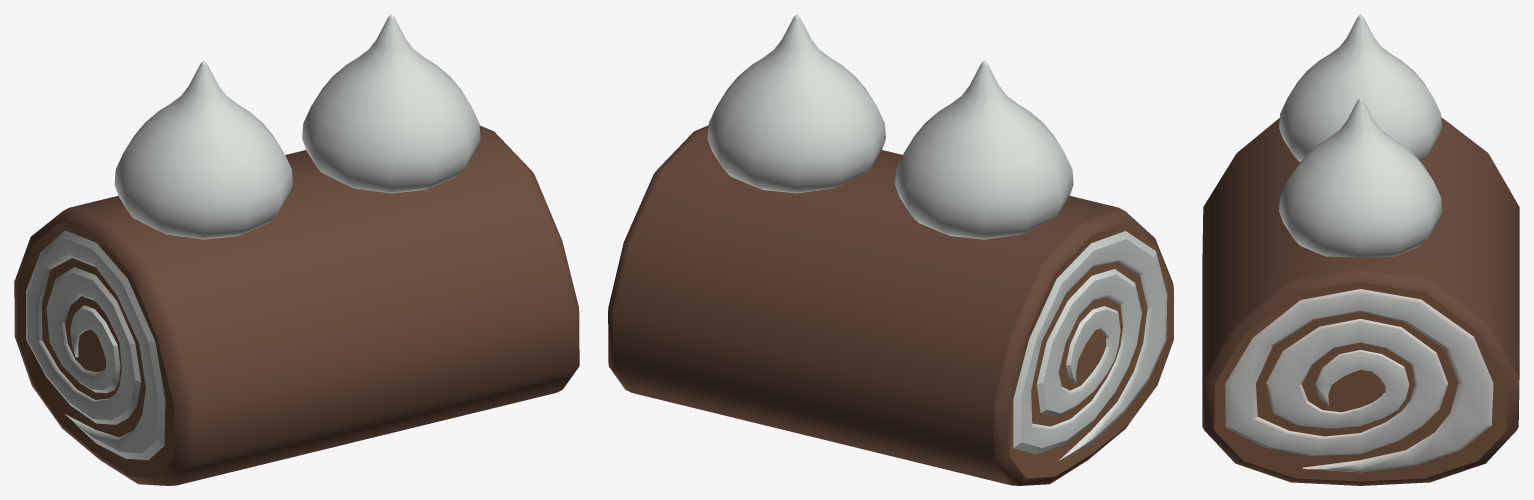
The model's file is atoll_sm_rollCake.fbx.
3 views of the same model, side by side, from view 1: azimuth 30°, elevation 25°; view 2: azimuth 150°, elevation 25°; view 3: azimuth 270°, elevation 25° (orthographic). The views are drawn at different scales.
Visible parts, largest first — view 1: Roll_Cake, Cream_Puff1, Cream_Puff; view 2: Roll_Cake, Cream_Puff1, Cream_Puff; view 3: Roll_Cake, Cream_Puff1, Cream_Puff.
Part boxes in pixels (left/top/right/bottom): Roll_Cake: left=14, top=125, right=579, bottom=485; Cream_Puff1: left=302, top=14, right=480, bottom=193; Cream_Puff: left=114, top=60, right=292, bottom=239; Roll_Cake: left=608, top=125, right=1173, bottom=485; Cream_Puff1: left=707, top=14, right=885, bottom=193; Cream_Puff: left=895, top=60, right=1073, bottom=239; Roll_Cake: left=1202, top=117, right=1519, bottom=485; Cream_Puff1: left=1279, top=97, right=1441, bottom=257; Cream_Puff: left=1279, top=14, right=1441, bottom=161.
Bounding box in the file's own units: 6.16 × 5.36 × 4.47.
